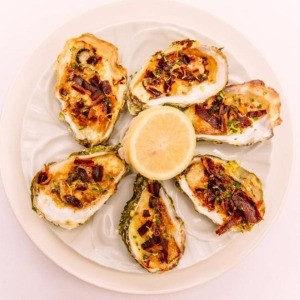oyster_brain food: (122, 163, 233, 270), (53, 46, 125, 144), (199, 53, 276, 139), (30, 156, 106, 231)
